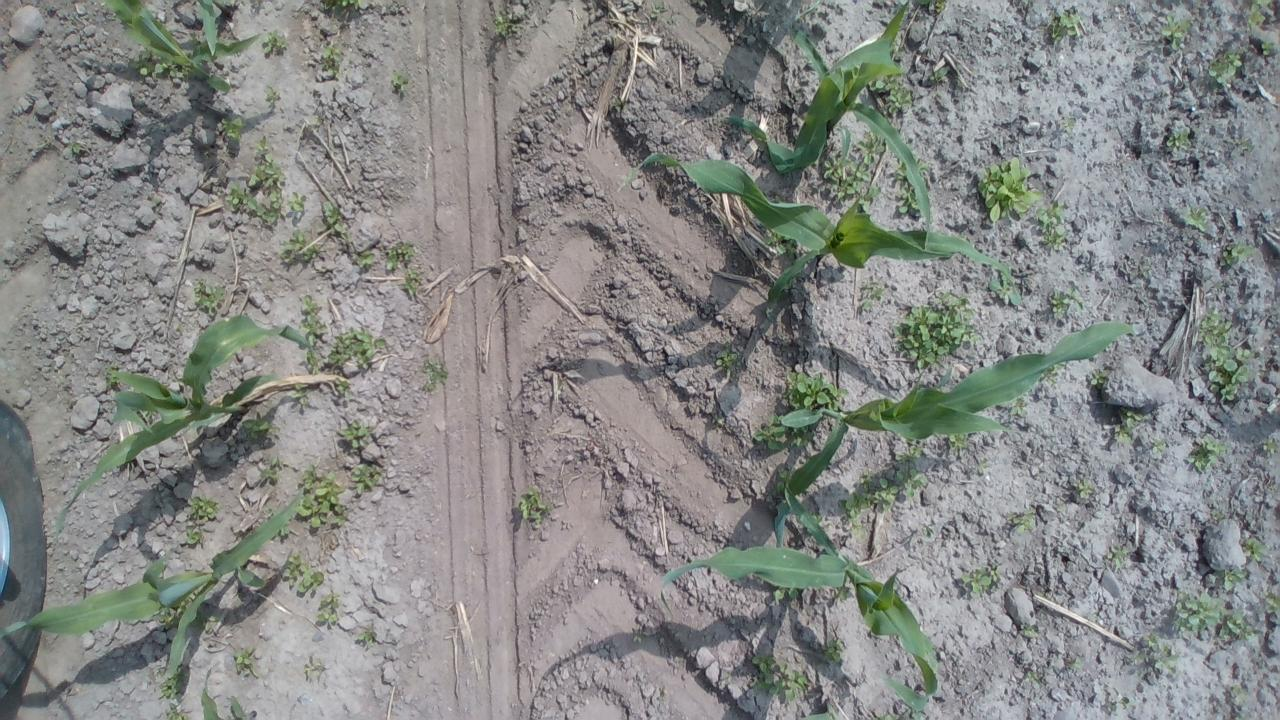Maize: (776, 315, 1139, 546), (616, 152, 1024, 313), (656, 484, 944, 712), (1, 486, 306, 686), (51, 313, 311, 539), (720, 0, 935, 258), (104, 0, 264, 94), (198, 666, 258, 720), (194, 0, 230, 60), (792, 698, 843, 720)
Weeds: (890, 290, 981, 369), (1196, 307, 1252, 402), (222, 153, 286, 223), (823, 128, 886, 198), (978, 156, 1044, 222), (294, 464, 348, 528), (782, 369, 849, 413), (750, 654, 808, 702), (327, 326, 387, 369), (127, 46, 195, 81), (1172, 590, 1225, 632), (1132, 634, 1180, 676), (283, 552, 325, 594), (276, 230, 326, 262), (1186, 434, 1228, 472), (1036, 200, 1066, 252), (298, 294, 327, 346), (843, 490, 871, 542), (518, 485, 552, 526), (753, 412, 788, 450), (989, 266, 1021, 306), (1208, 49, 1244, 84), (962, 564, 1001, 596), (192, 278, 224, 317), (322, 200, 351, 243), (1218, 611, 1258, 642), (1161, 14, 1191, 52), (1044, 11, 1082, 40), (1050, 284, 1084, 316), (242, 412, 280, 440), (764, 230, 798, 261), (866, 63, 901, 93), (894, 154, 931, 182), (350, 463, 382, 494), (1113, 412, 1142, 446), (186, 493, 222, 519), (871, 477, 899, 510), (897, 468, 927, 498), (338, 419, 370, 447), (318, 41, 342, 78), (232, 646, 260, 677), (158, 669, 187, 698), (386, 242, 414, 272), (422, 359, 448, 391), (886, 85, 914, 113), (860, 278, 884, 310), (190, 607, 220, 632), (1220, 244, 1254, 266), (1246, 0, 1270, 30), (1242, 537, 1268, 564), (316, 592, 339, 622), (262, 29, 288, 55), (1008, 509, 1036, 533), (898, 185, 921, 214), (494, 11, 520, 36), (858, 187, 882, 213), (220, 116, 244, 142), (302, 346, 324, 374), (1222, 568, 1248, 591), (1166, 129, 1192, 152), (821, 639, 844, 664), (1107, 543, 1130, 568), (157, 605, 180, 630), (1185, 204, 1207, 230), (716, 349, 738, 374), (402, 268, 422, 295), (790, 424, 814, 446), (260, 456, 282, 480), (896, 445, 922, 464), (321, 0, 364, 11), (286, 191, 306, 214), (390, 70, 410, 92), (772, 584, 799, 600), (1264, 586, 1280, 613), (1046, 363, 1065, 385), (352, 250, 374, 269), (917, 0, 948, 12), (774, 466, 788, 492), (1008, 397, 1028, 415), (948, 432, 968, 450), (356, 628, 376, 646), (164, 705, 188, 720), (334, 378, 352, 398), (1077, 477, 1094, 498), (264, 84, 280, 106), (253, 136, 270, 156), (928, 66, 949, 82), (1024, 670, 1042, 688), (859, 469, 873, 491), (180, 590, 197, 608), (185, 526, 202, 544), (304, 660, 323, 676), (1090, 370, 1108, 386), (104, 364, 117, 386), (292, 384, 307, 403), (871, 710, 899, 720), (1230, 684, 1245, 702), (1260, 36, 1274, 55), (650, 2, 666, 18), (1262, 438, 1278, 454), (1021, 624, 1038, 639), (836, 584, 850, 601), (66, 140, 82, 154), (1062, 115, 1076, 131), (906, 707, 922, 720), (921, 524, 934, 540), (262, 505, 282, 515), (186, 32, 200, 46), (1152, 438, 1165, 452), (976, 459, 988, 474), (136, 408, 152, 419), (1070, 656, 1082, 670), (280, 522, 292, 536), (1237, 138, 1250, 150), (1210, 509, 1224, 520), (310, 114, 322, 126), (811, 512, 823, 523), (774, 194, 786, 203), (613, 100, 622, 112), (632, 634, 642, 644), (1120, 700, 1132, 708), (1233, 715, 1249, 720), (1140, 267, 1148, 277), (715, 417, 723, 426), (149, 198, 157, 206)
